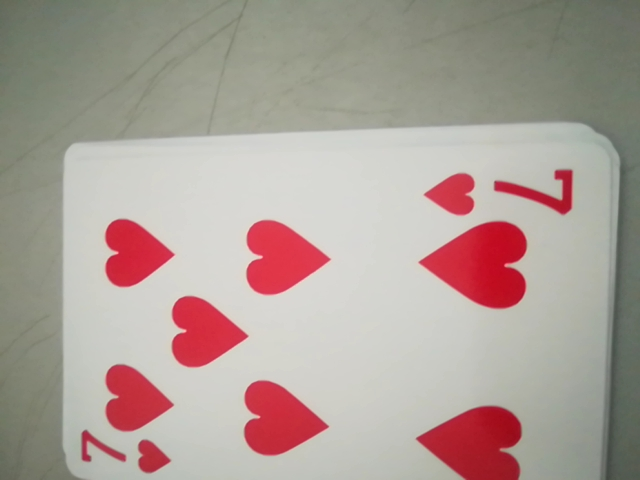hx 7: (416, 155, 584, 223)
